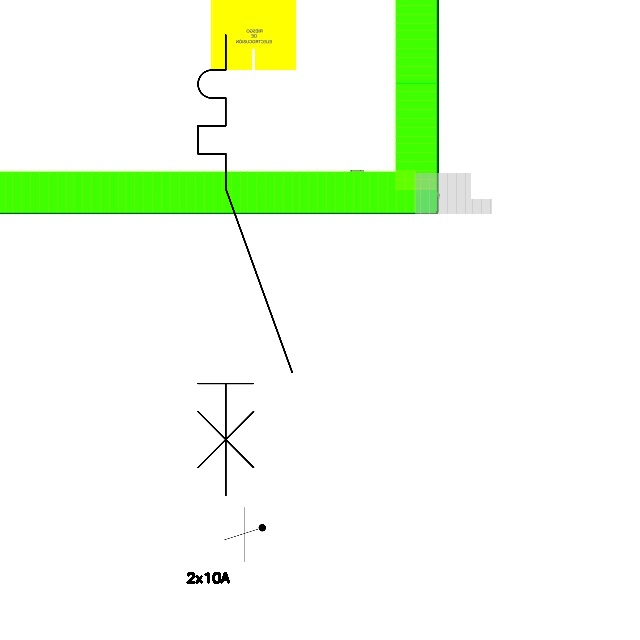interruptor_termomagnetico: (186, 23, 304, 507)
